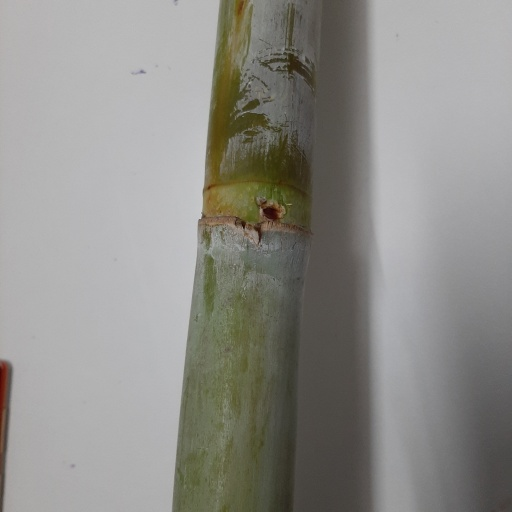Damage_Bud: (259, 197, 287, 221)
